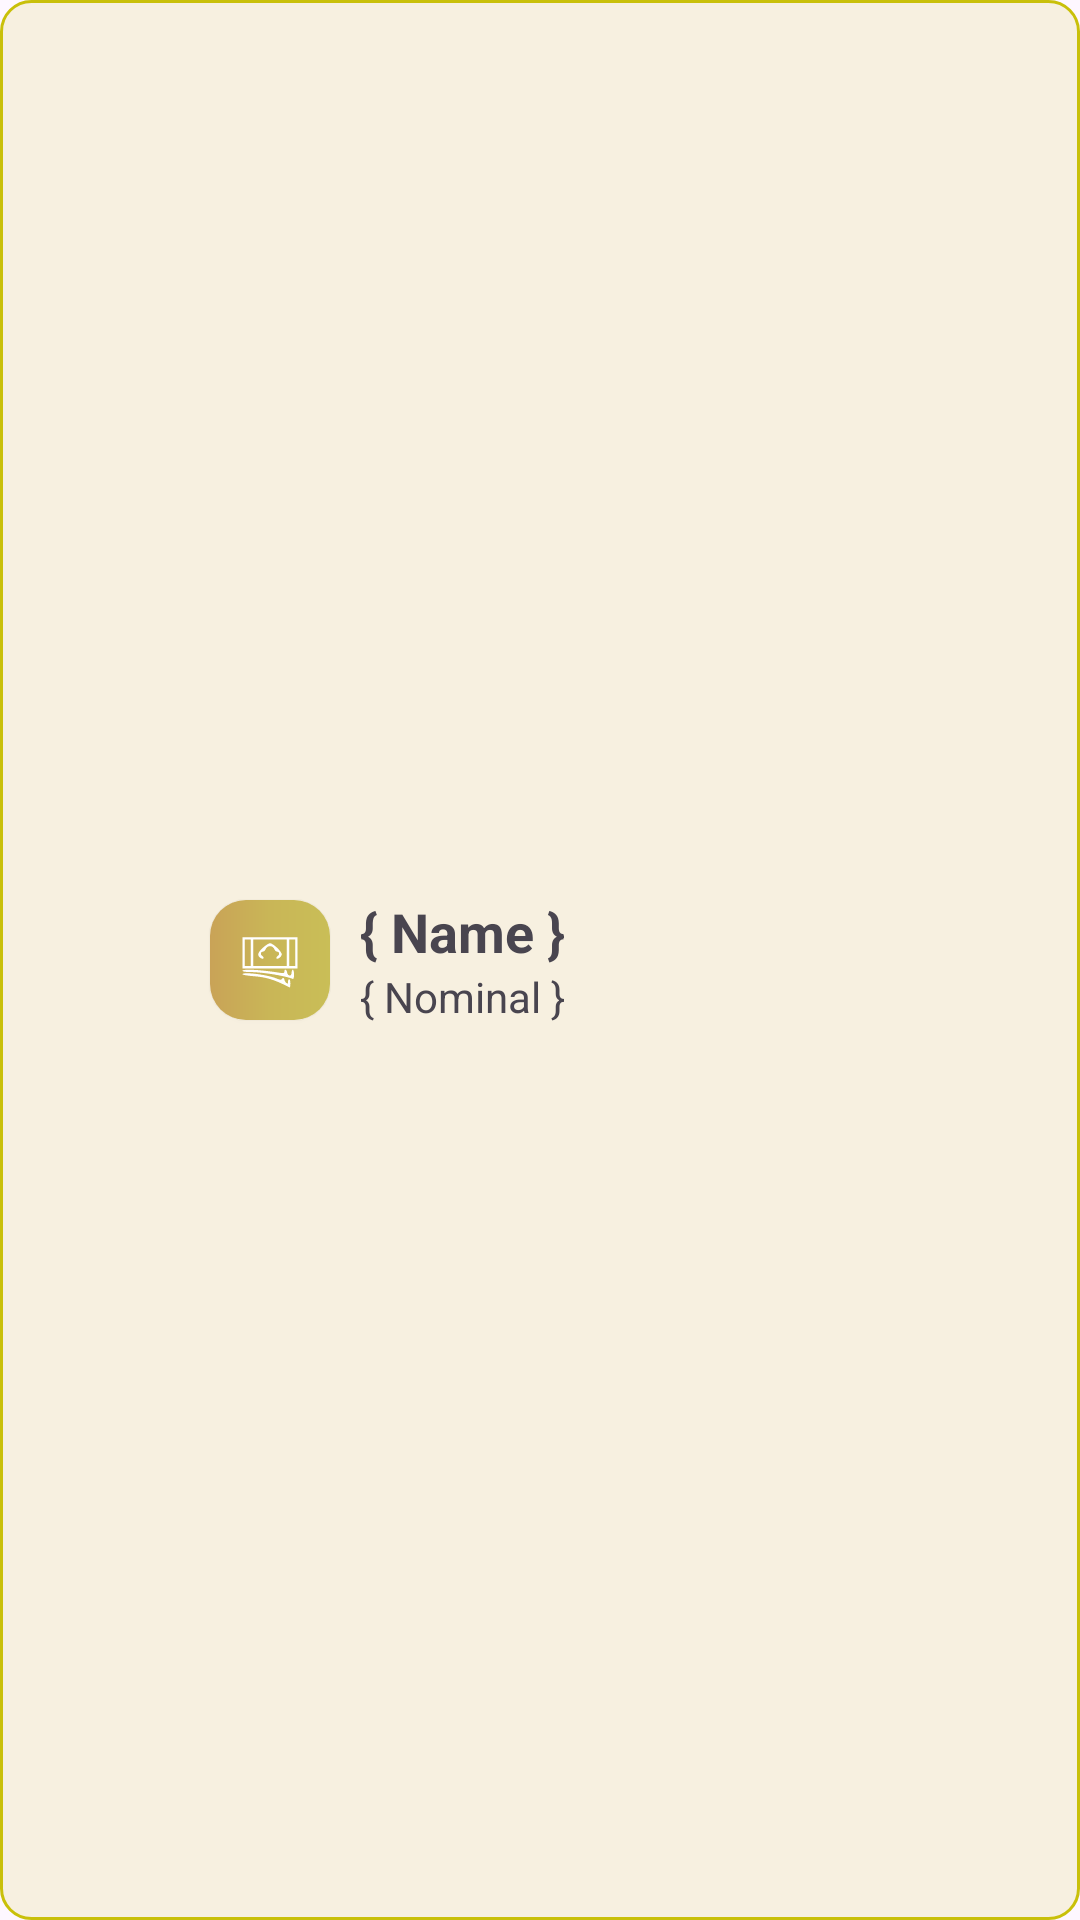

Point at icon controls on the screen. Image size 1080 × 1920, points as (x=x, y=y).
category cash: (x=270, y=960)
